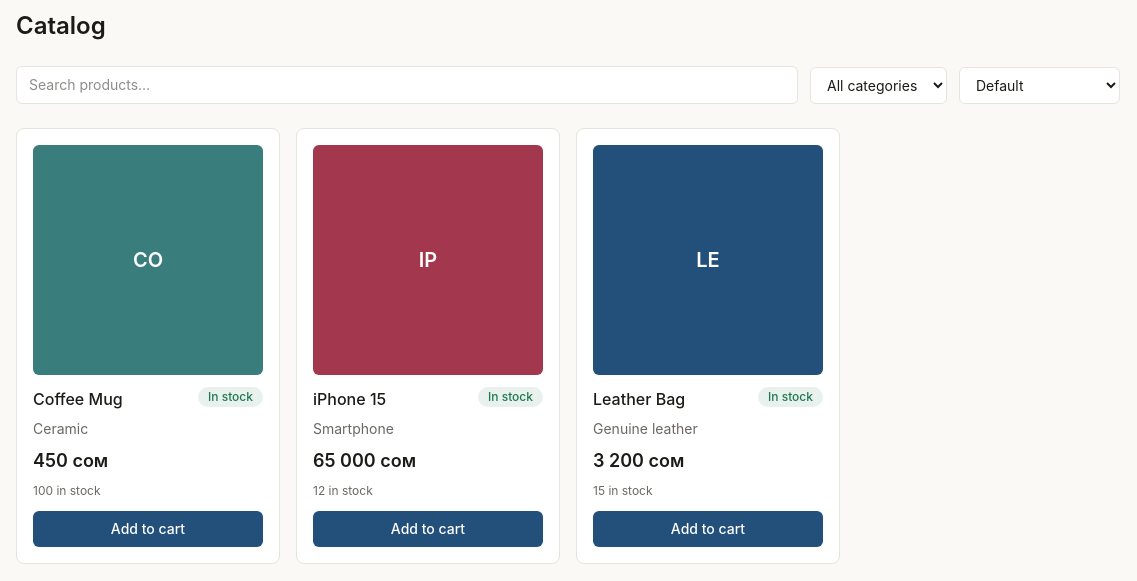
Test: CatalogPage: search and sort (Phase 7) › sorting by price low-to-high reorders the grid
Check: the heading "Coffee Mug" is shown, box [33, 387, 123, 411]
Select "Price: low to high" in the dropdown named "Sort products" at (1040, 85), box [959, 66, 1120, 104]
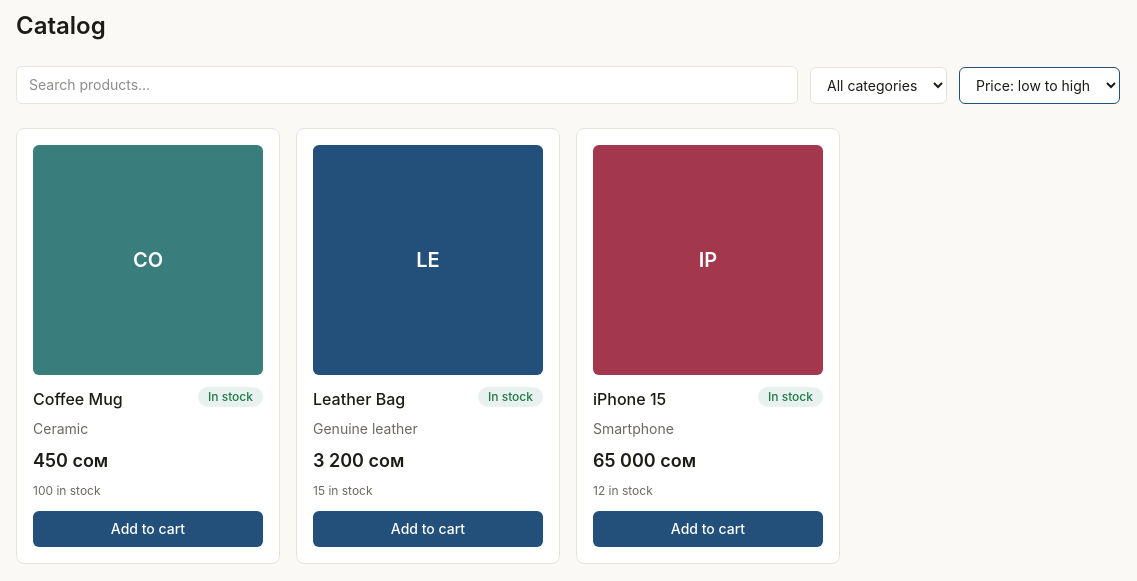
Check: the headings read "Coffee Mug", "Leather Bag", "iPhone 15", in this order, box [33, 387, 123, 411]; [313, 387, 405, 411]; [593, 387, 666, 411]
